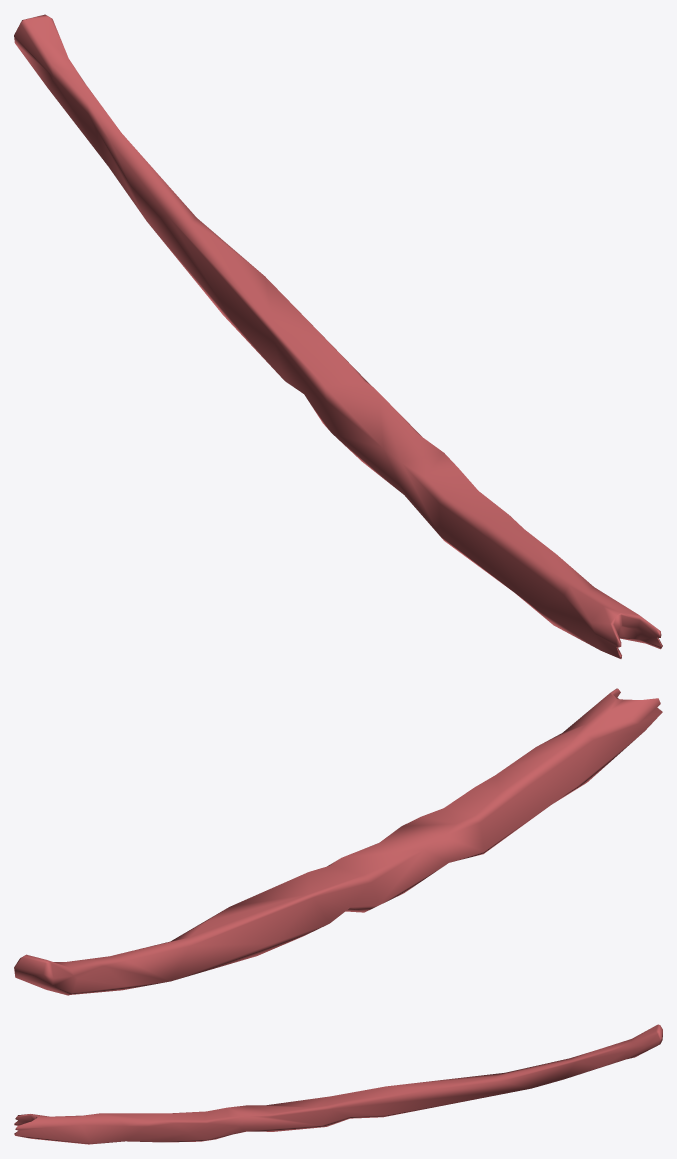
3 renders of one model, top to bottom at view 1: azimuth 30°, elevation 25°; view 2: azimuth 150°, elevation 25°; view 3: azimuth 270°, elevation 25°, orthographic. The views are drawn at different scales.
Parts seen in each view (by area): view 1: 腹白线; view 2: 腹白线; view 3: 腹白线.
Part boxes in pixels (<box>): 腹白线: <box>14,14,662,658</box>; 腹白线: <box>14,688,662,995</box>; 腹白线: <box>14,1024,662,1144</box>.
Bounding box in the file's own units: 0.0266 × 0.112 × 0.5833.
